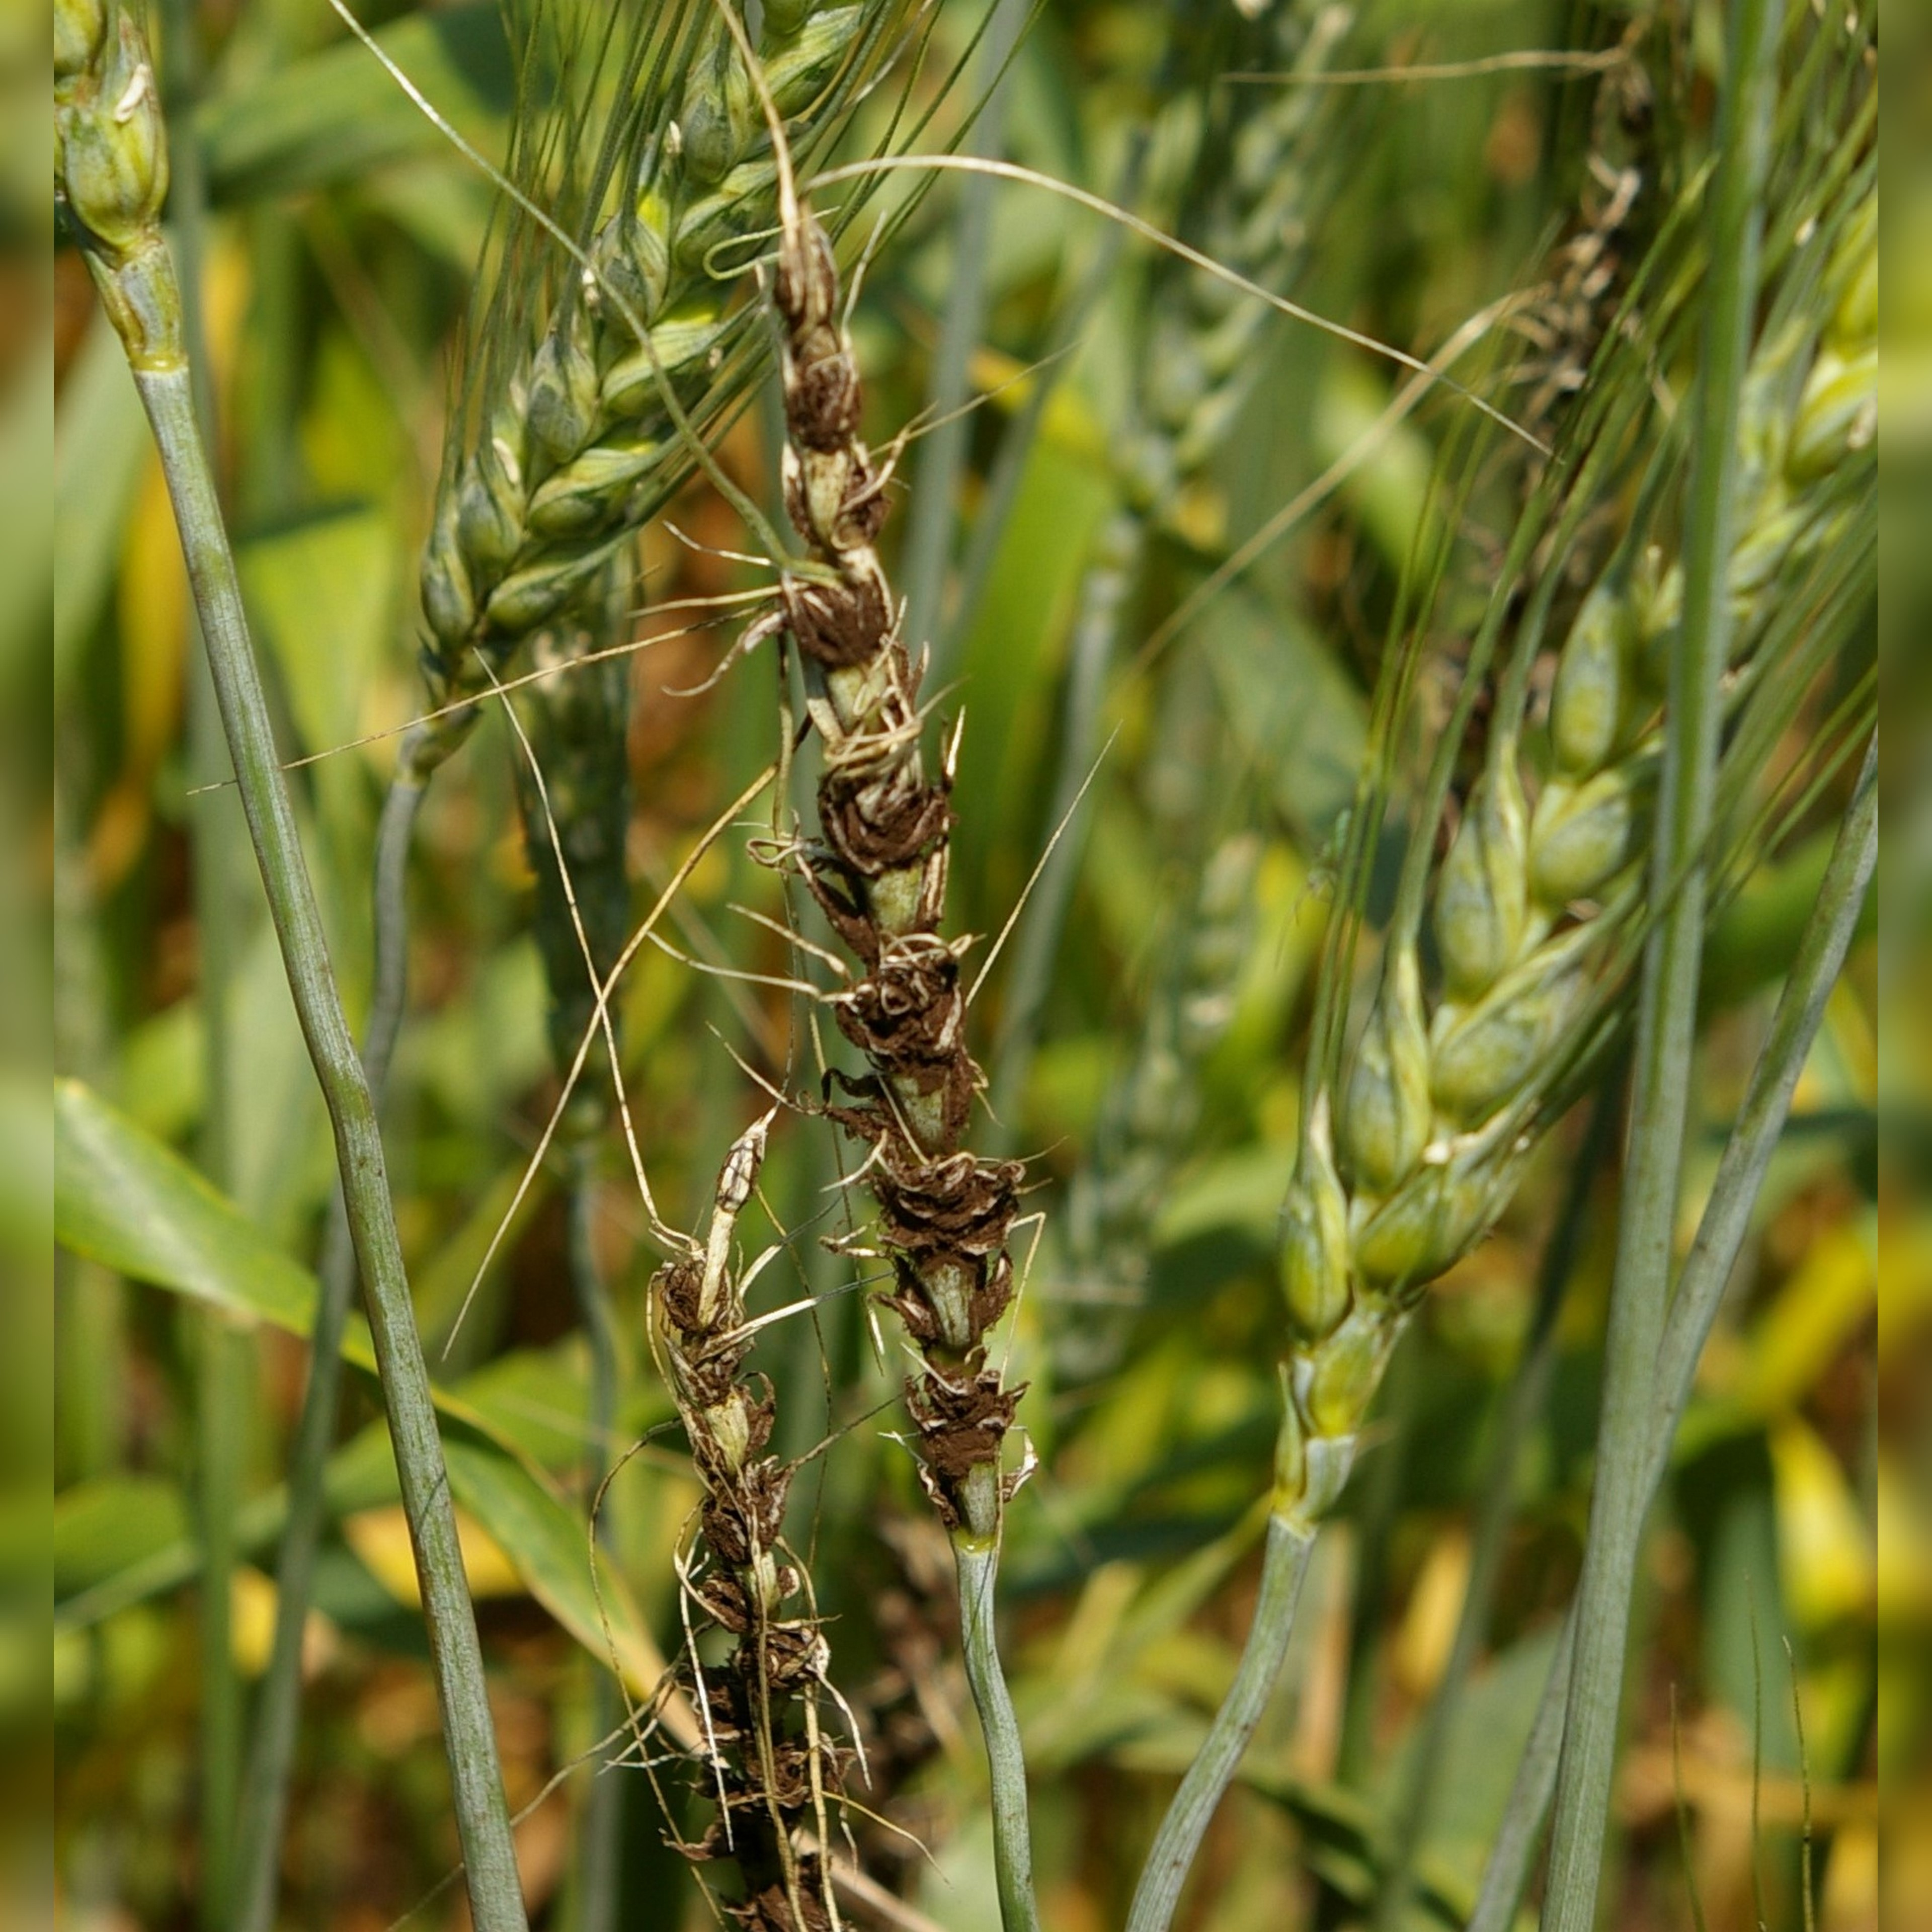Wheat Loose Smut: (720, 221, 1085, 1456)
